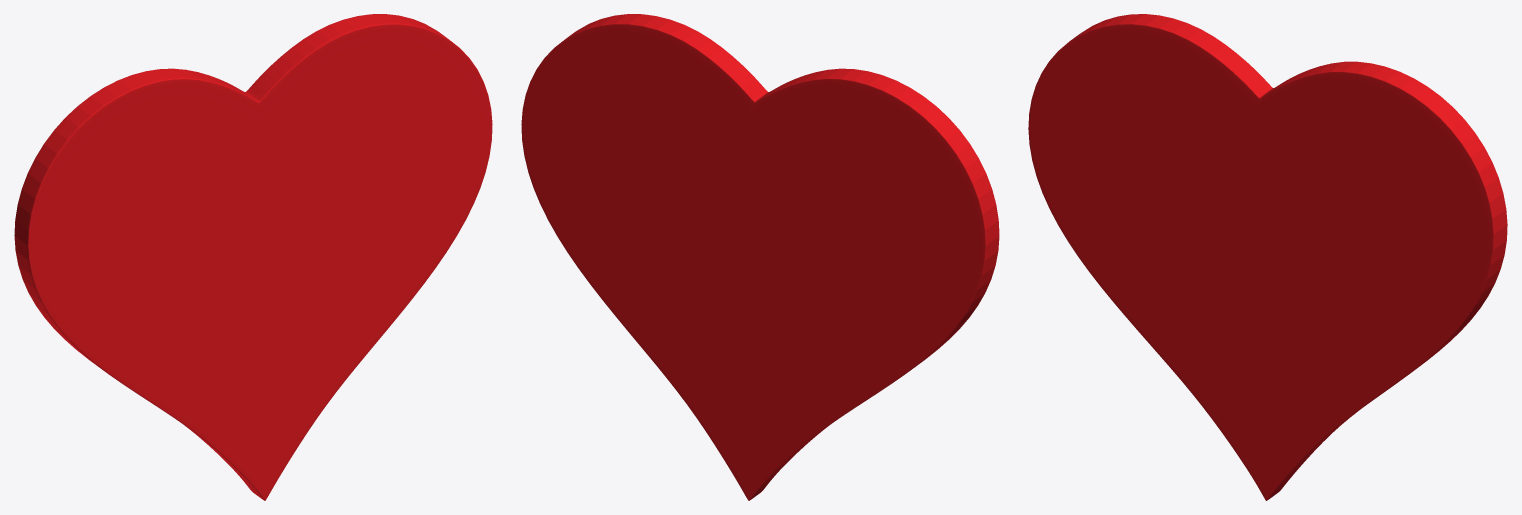
The model's file is Heart.fbx.
The picture shows the model from 3 angles, left to right: view 1: azimuth 30°, elevation 25°; view 2: azimuth 150°, elevation 25°; view 3: azimuth 330°, elevation 25°; orthographic projection.
Parts seen in each view (by area): view 1: Heart_01; view 2: Heart_01; view 3: Heart_01.
Boxes of the visible parts, <box> form: Heart_01: <box>14,14,492,500</box>; Heart_01: <box>521,14,999,500</box>; Heart_01: <box>1028,14,1507,500</box>.
Bounding box in the file's own units: 15.42 × 14.26 × 0.8084.
